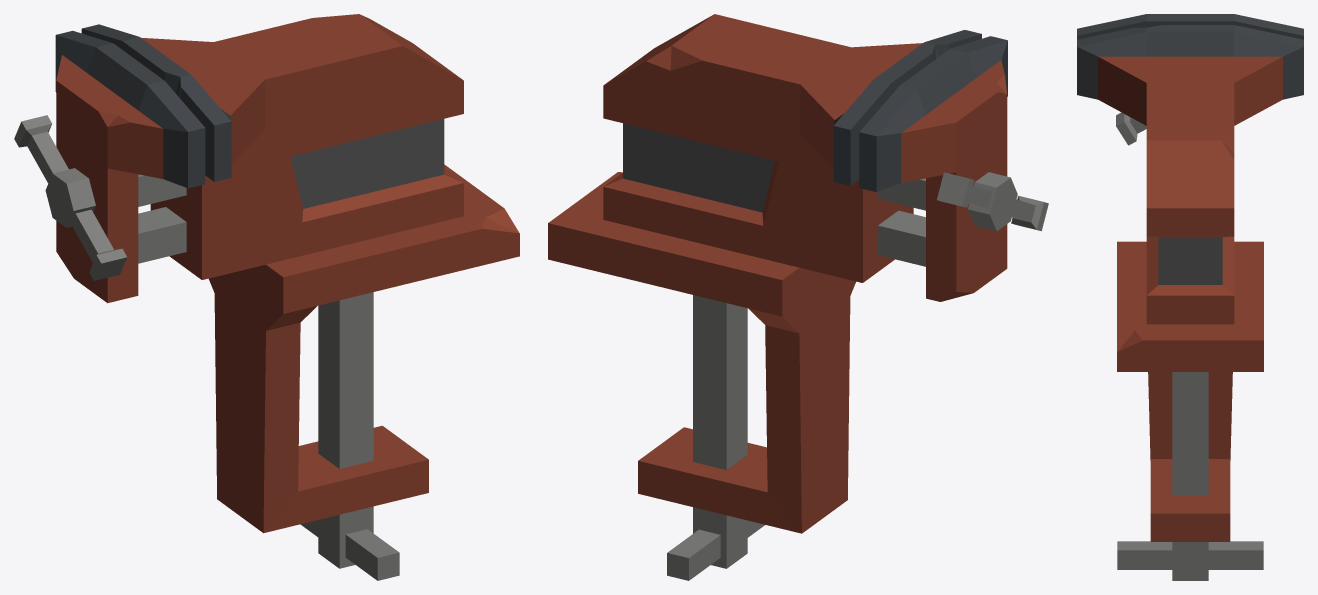
The model's file is SM_Prop_Vice_01.glb.
The picture shows the model from 3 angles, left to right: view 1: azimuth 30°, elevation 25°; view 2: azimuth 150°, elevation 25°; view 3: azimuth 270°, elevation 25°; orthographic projection. The views are drawn at different scales.
Visible parts, largest first — view 1: SM_Prop_Vice_01, SM_Prop_Vice_Slide_01, SM_Prop_Vice_Handle_01; view 2: SM_Prop_Vice_01, SM_Prop_Vice_Slide_01, SM_Prop_Vice_Handle_01; view 3: SM_Prop_Vice_01, SM_Prop_Vice_Slide_01, SM_Prop_Vice_Handle_01.
Part boxes in pixels (<box>): SM_Prop_Vice_01: <box>81,14,519,580</box>; SM_Prop_Vice_Slide_01: <box>55,30,205,303</box>; SM_Prop_Vice_Handle_01: <box>14,115,127,280</box>; SM_Prop_Vice_01: <box>548,14,981,580</box>; SM_Prop_Vice_Slide_01: <box>859,36,1007,301</box>; SM_Prop_Vice_Handle_01: <box>937,172,1048,231</box>; SM_Prop_Vice_01: <box>1077,25,1303,580</box>; SM_Prop_Vice_Slide_01: <box>1077,14,1303,39</box>; SM_Prop_Vice_Handle_01: <box>1116,112,1146,145</box>.
Bounding box in the file's own units: 0.3577 × 0.4448 × 0.196.
Materials: 3 (3 with a texture image).
